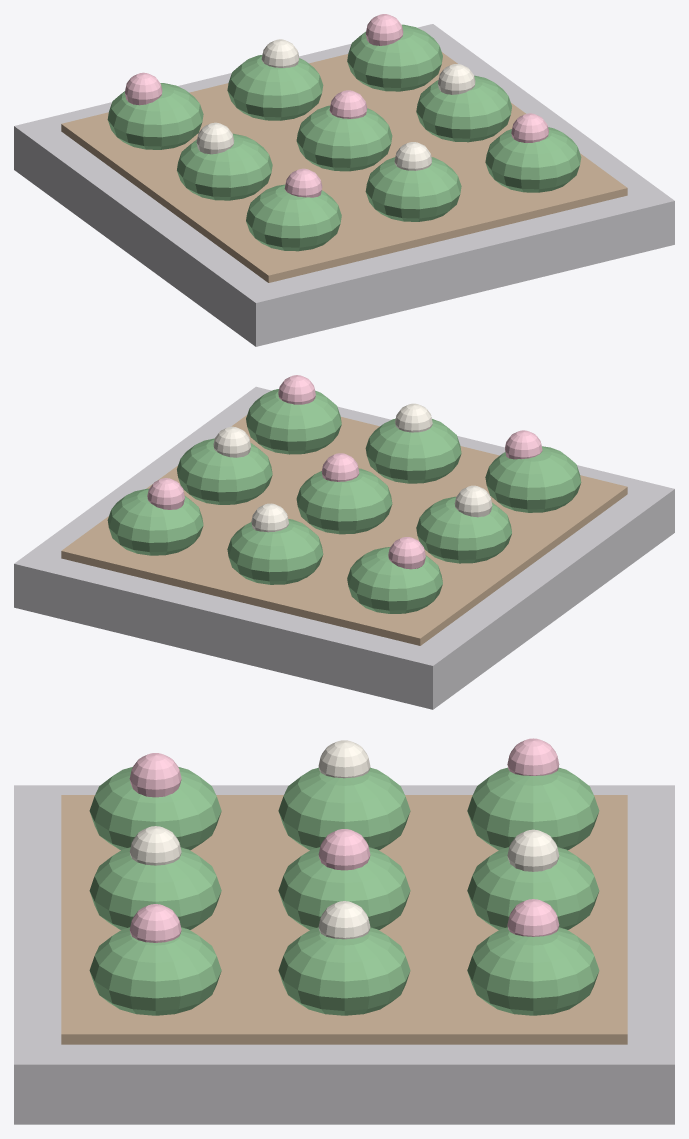
File: PinkFlowerBed.glb
3 views of the same model, one above another, from view 1: azimuth 30°, elevation 25°; view 2: azimuth 150°, elevation 25°; view 3: azimuth 270°, elevation 25° (orthographic). The views are drawn at different scales.
Visible parts, largest first — view 1: PinkFlowerBed_2, PinkFlowerBed_0, PinkFlowerBed_1, PinkFlowerBed_3, PinkFlowerBed_4; view 2: PinkFlowerBed_2, PinkFlowerBed_0, PinkFlowerBed_1, PinkFlowerBed_3, PinkFlowerBed_4; view 3: PinkFlowerBed_2, PinkFlowerBed_0, PinkFlowerBed_1, PinkFlowerBed_3, PinkFlowerBed_4.
Boxes of the visible parts, x1,y1,x2,y2 form: PinkFlowerBed_2: [14, 24, 674, 346]; PinkFlowerBed_0: [107, 24, 581, 251]; PinkFlowerBed_1: [61, 52, 627, 282]; PinkFlowerBed_3: [125, 14, 548, 197]; PinkFlowerBed_4: [196, 39, 475, 170]; PinkFlowerBed_2: [14, 386, 674, 709]; PinkFlowerBed_0: [107, 389, 581, 613]; PinkFlowerBed_1: [61, 415, 627, 645]; PinkFlowerBed_3: [147, 375, 542, 569]; PinkFlowerBed_4: [213, 403, 492, 532]; PinkFlowerBed_2: [14, 785, 674, 1124]; PinkFlowerBed_0: [89, 767, 599, 1015]; PinkFlowerBed_1: [61, 795, 627, 1044]; PinkFlowerBed_3: [129, 738, 559, 942]; PinkFlowerBed_4: [129, 740, 559, 939].
Size of the model in its own units: 7 by 1.82 by 7.
